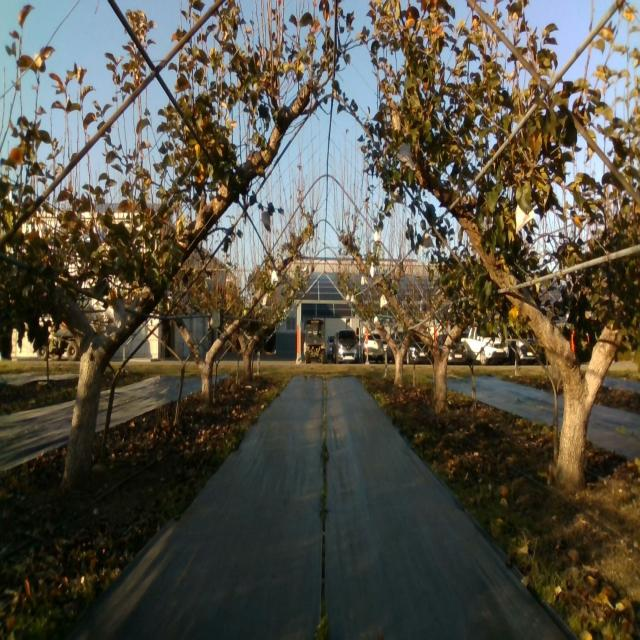pearbags: (514, 202, 536, 233), (104, 296, 124, 329), (398, 143, 416, 172), (260, 211, 272, 232)
